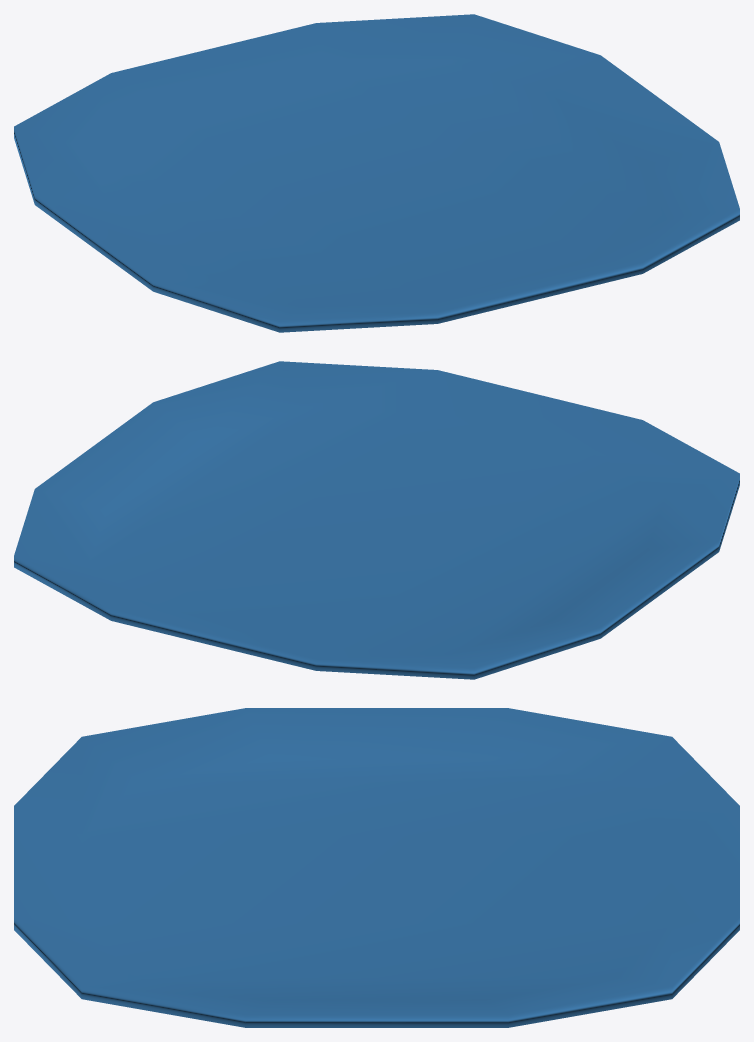
Rendered from plato01.fbx.
The picture shows the model from 3 angles, top to bottom: view 1: azimuth 30°, elevation 25°; view 2: azimuth 150°, elevation 25°; view 3: azimuth 270°, elevation 25°; orthographic projection. The views are drawn at different scales.
Visible parts, largest first — view 1: pCube226; view 2: pCube226; view 3: pCube226.
Part boxes in pixels (<box>): pCube226: <box>14,14,739,332</box>; pCube226: <box>14,361,739,679</box>; pCube226: <box>14,708,739,1027</box>.
Size of the model in its own units: 0.25 by 0.0119 by 0.25.
